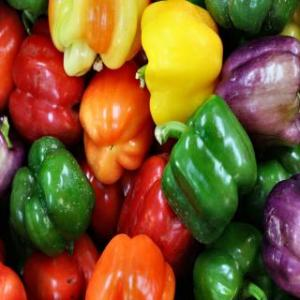bell_pepper: (162, 91, 258, 241), (136, 2, 222, 126), (6, 136, 96, 248), (7, 37, 82, 139), (84, 68, 142, 184)
